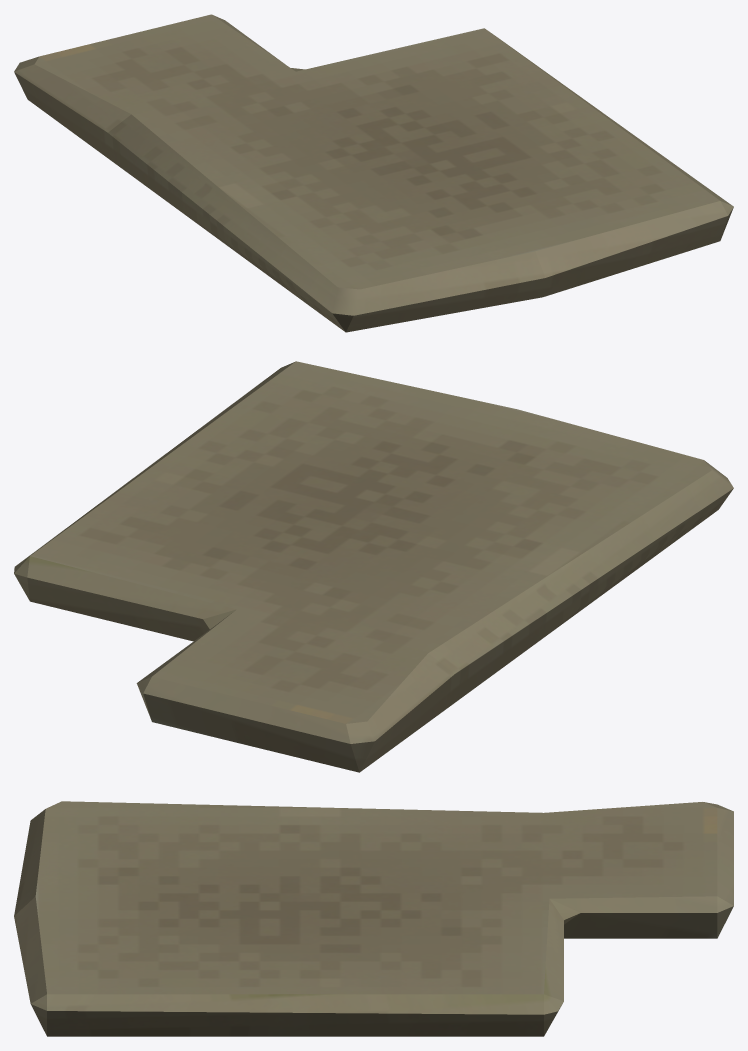
The model's file is Tile_2.fbx.
3 renders of one model, top to bottom at view 1: azimuth 30°, elevation 25°; view 2: azimuth 150°, elevation 25°; view 3: azimuth 270°, elevation 25°, orthographic. The views are drawn at different scales.
Parts seen in each view (by area): view 1: Tile_2; view 2: Tile_2; view 3: Tile_2.
Part boxes in pixels (x1,y1,x2,y2): Tile_2: [14, 14, 733, 332]; Tile_2: [14, 361, 733, 772]; Tile_2: [14, 801, 733, 1036].
Bounding box in the file's own units: 381 × 36.57 × 562.
